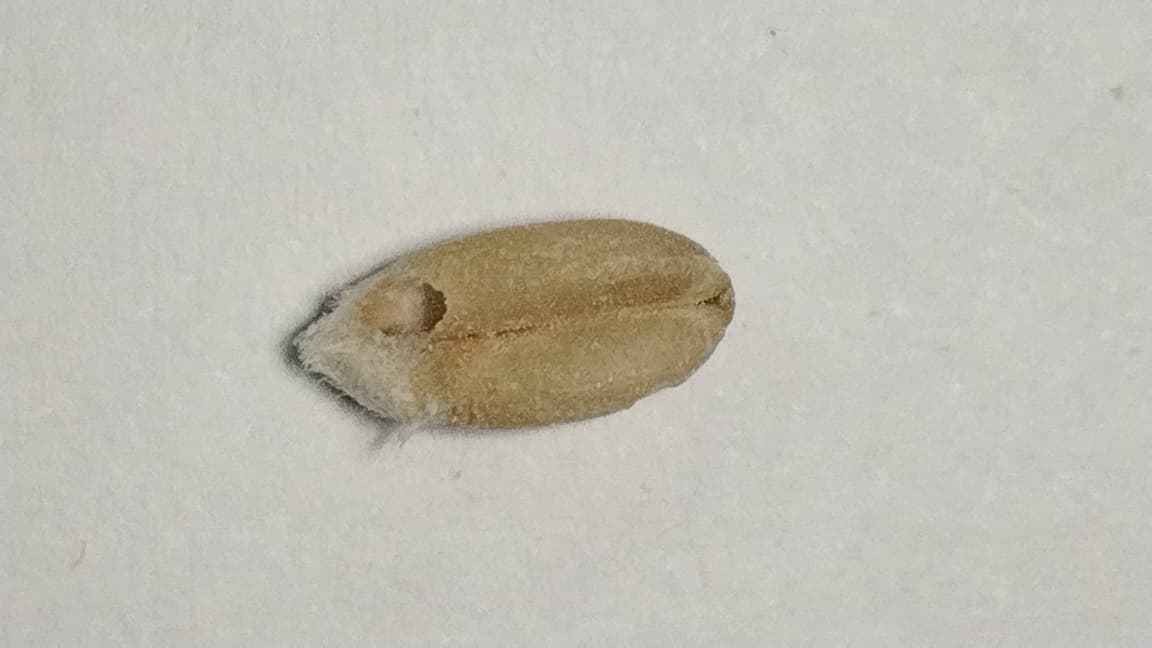damage: (295, 219, 732, 425)
insectdamage: (358, 262, 461, 347)
